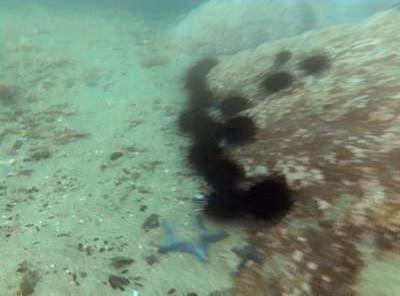urchin: (251, 173, 293, 221), (206, 187, 252, 225), (204, 156, 250, 190), (187, 138, 226, 168), (224, 115, 262, 143), (191, 118, 228, 146), (215, 93, 254, 116), (297, 54, 332, 74), (262, 71, 295, 92), (190, 87, 220, 109), (178, 106, 205, 129), (187, 70, 211, 91), (195, 55, 219, 73), (275, 49, 293, 64)
